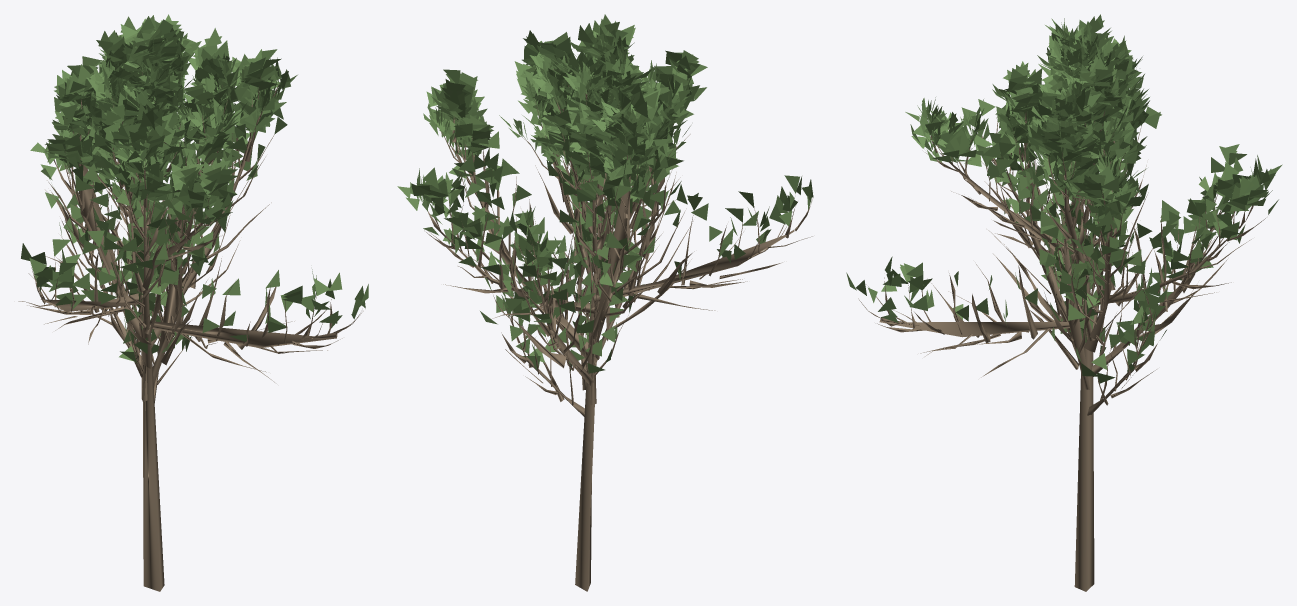
Rendered from Oak_01_LOD0.fbx.
3 renders of one model, left to right at view 1: azimuth 30°, elevation 25°; view 2: azimuth 150°, elevation 25°; view 3: azimuth 270°, elevation 25°, orthographic.
Visible parts, largest first — view 1: Oak; view 2: Oak; view 3: Oak.
Part boxes in pixels (box(x1,y1,x2,y2)): Oak: box(18, 14, 368, 591); Oak: box(397, 14, 813, 591); Oak: box(846, 14, 1282, 591).
Size of the model in its own units: 653 by 1051 by 739.
